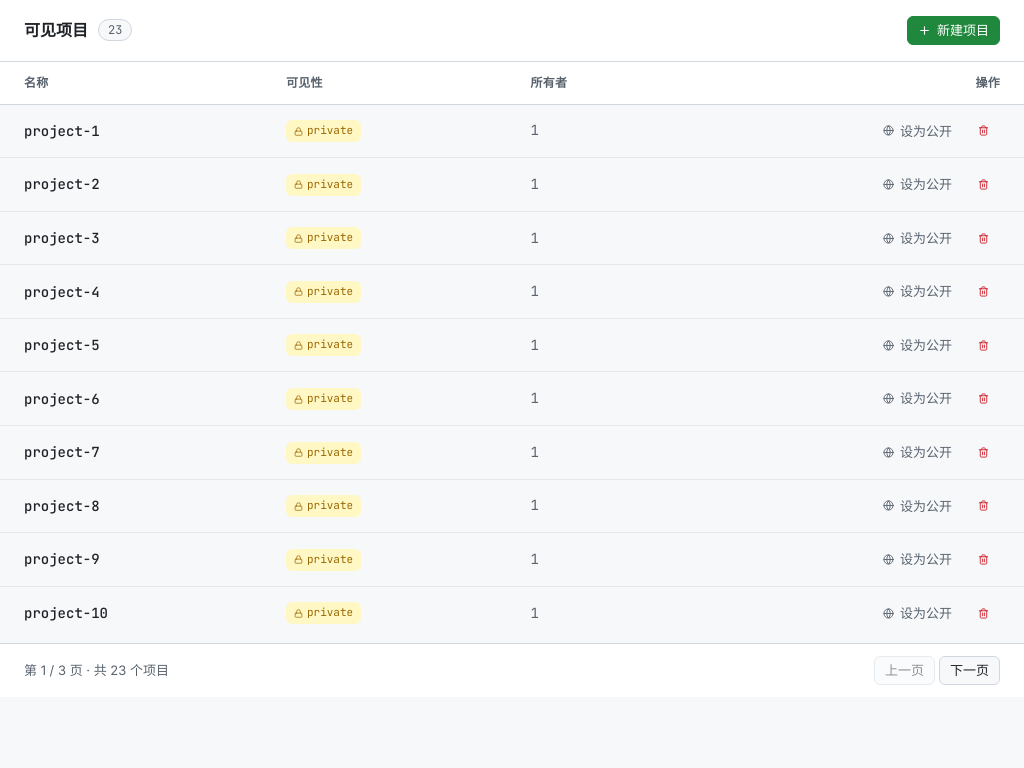
it: ProjectsPage pagination › navigates forward and backward and disables buttons at the edges
The image size is (1024, 768).
Check: the text "project-1" is shown, box [24,122,100,140]
Click the button "下一页" at [970, 671], box [939,656,1000,685]
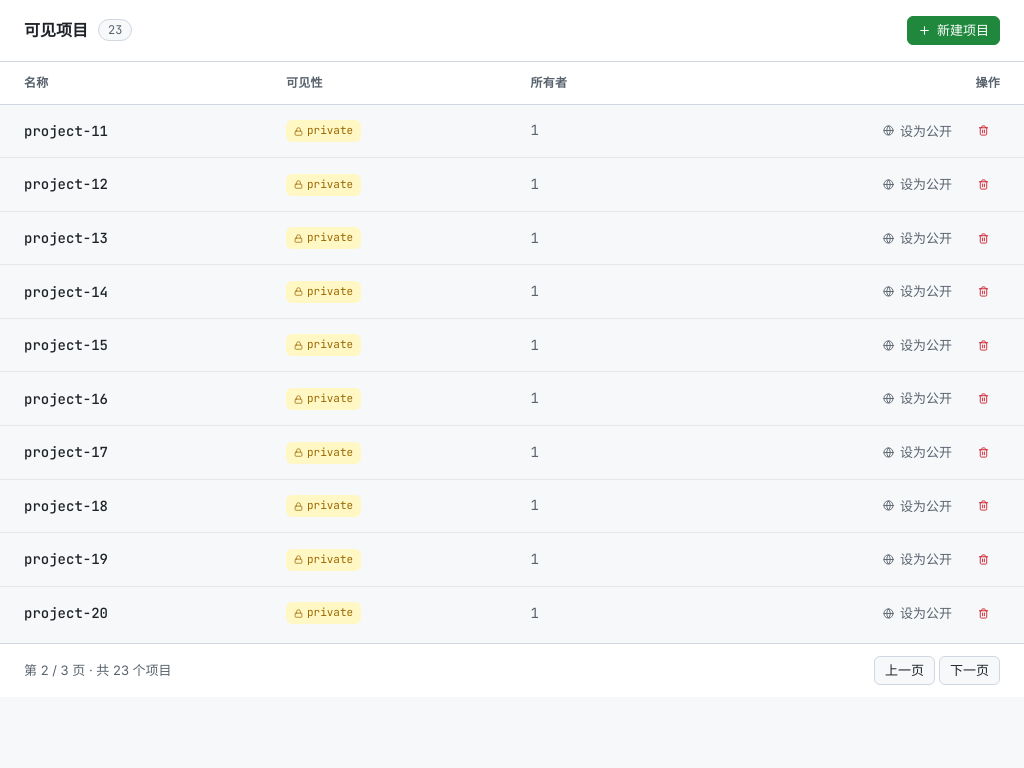
Check: the text "project-11" is shown, box [24,122,108,140]
Check: the text "第 2 / 3 页 · 共 23 个项目" is shown, box [24,661,172,680]
Click the button "上一页" at [904, 671], box [874,656,935,685]
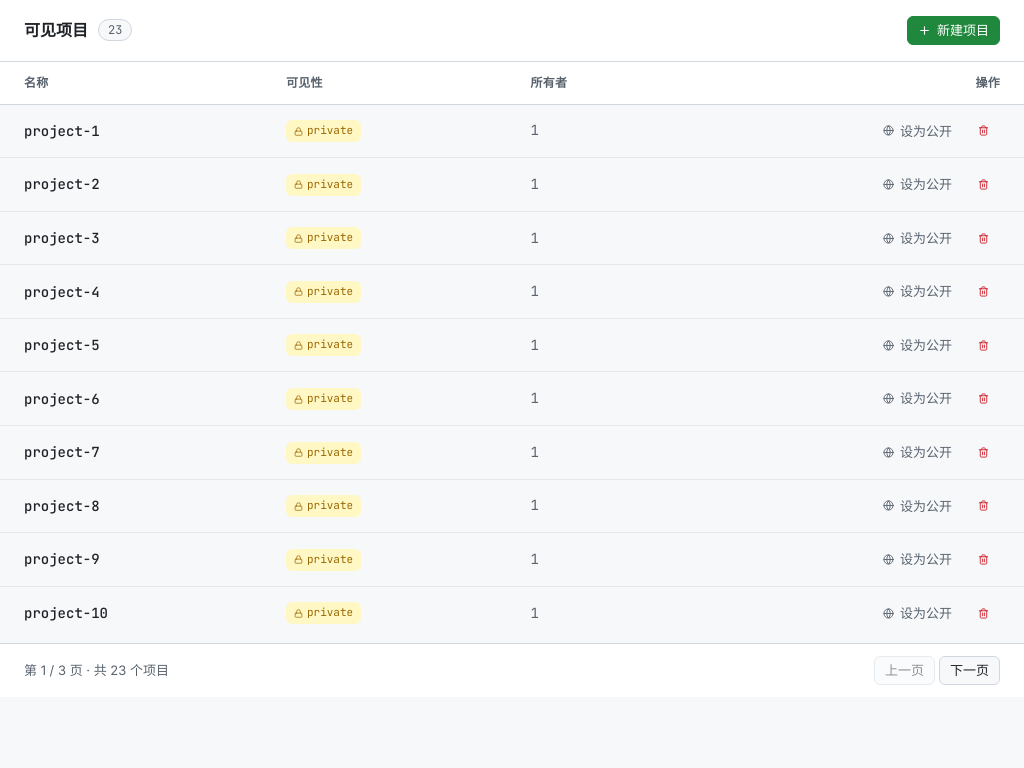
Check: the text "project-1" is shown, box [24,122,100,140]
Check: the button "上一页" is disabled, box [874,656,935,685]
